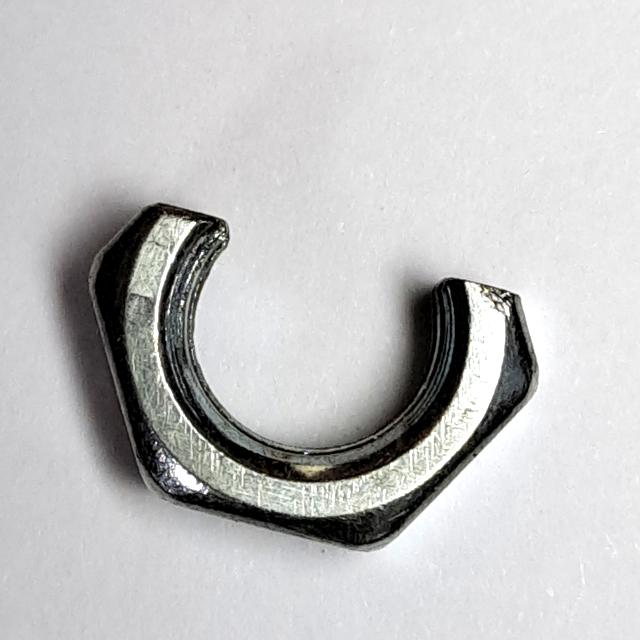Fracture: (74, 186, 553, 573)
